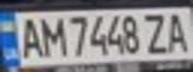4: (103, 11, 127, 55), (87, 11, 109, 56)
7: (66, 12, 90, 57)
8: (121, 11, 145, 55)
A: (15, 15, 45, 60), (163, 9, 193, 54)
M: (36, 14, 66, 57)
Z: (142, 10, 172, 55)
